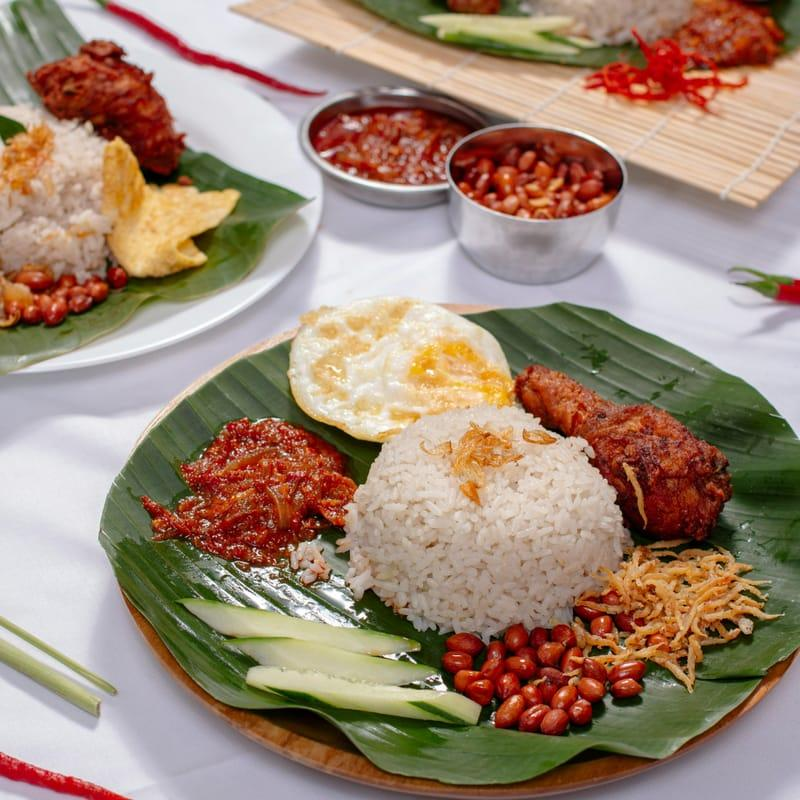Anchovies: (573, 543, 784, 692)
Cucumber: (192, 603, 476, 721)
Fried-Chicken: (514, 364, 734, 545), (27, 43, 184, 185)
Fried-Egg: (286, 297, 516, 446)
Peanuts: (302, 296, 512, 443), (443, 632, 650, 731), (465, 149, 610, 217), (4, 263, 108, 328)
Rice: (347, 411, 632, 632), (0, 124, 113, 272)
Sambal: (149, 422, 352, 552), (327, 111, 467, 185)
